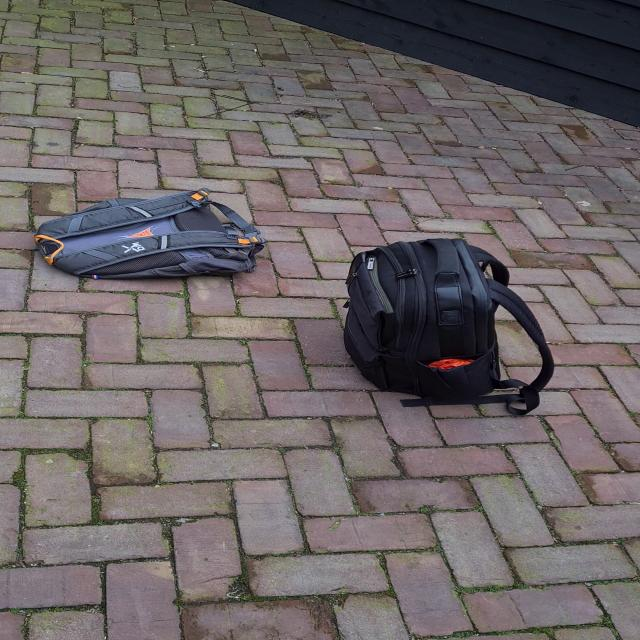backpack: (334, 234, 539, 413), (30, 190, 269, 287)
